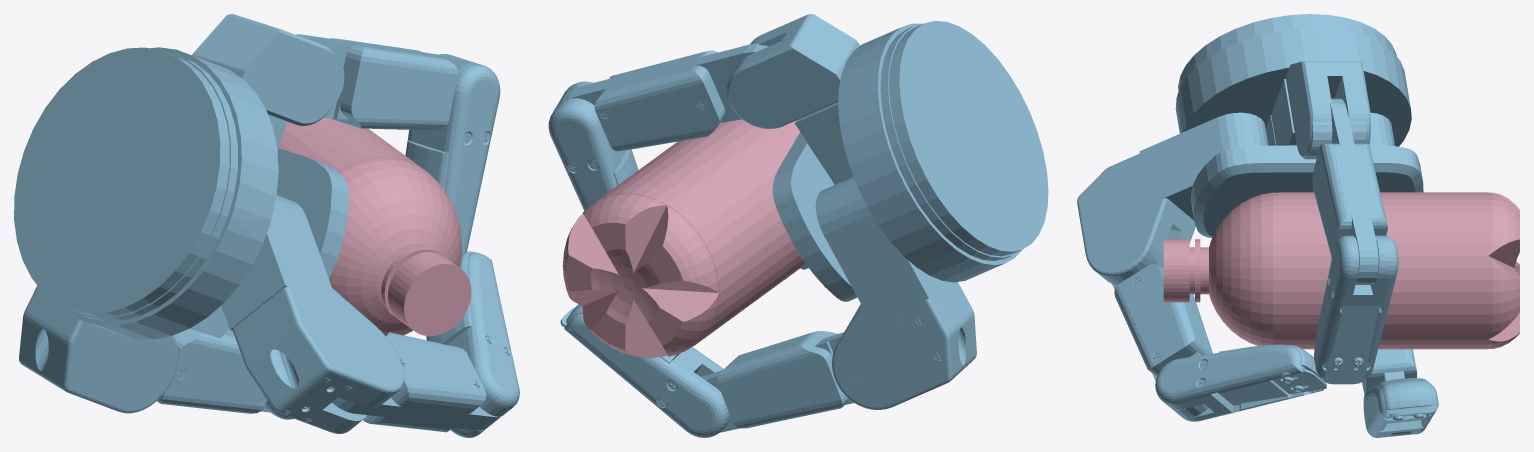
3 renders of one model, left to right at view 1: azimuth 30°, elevation 25°; view 2: azimuth 150°, elevation 25°; view 3: azimuth 270°, elevation 25°, orthographic. The views are drawn at different scales.
Parts seen in each view (by area): view 1: world; view 2: world; view 3: world.
Boxes of the visible parts, x1,y1,x2,y2 form: world: (14,14,519,437); world: (548,14,1048,437); world: (1077,14,1519,437).
Size of the model in its own units: 0.1729 by 0.15 by 0.1696.
